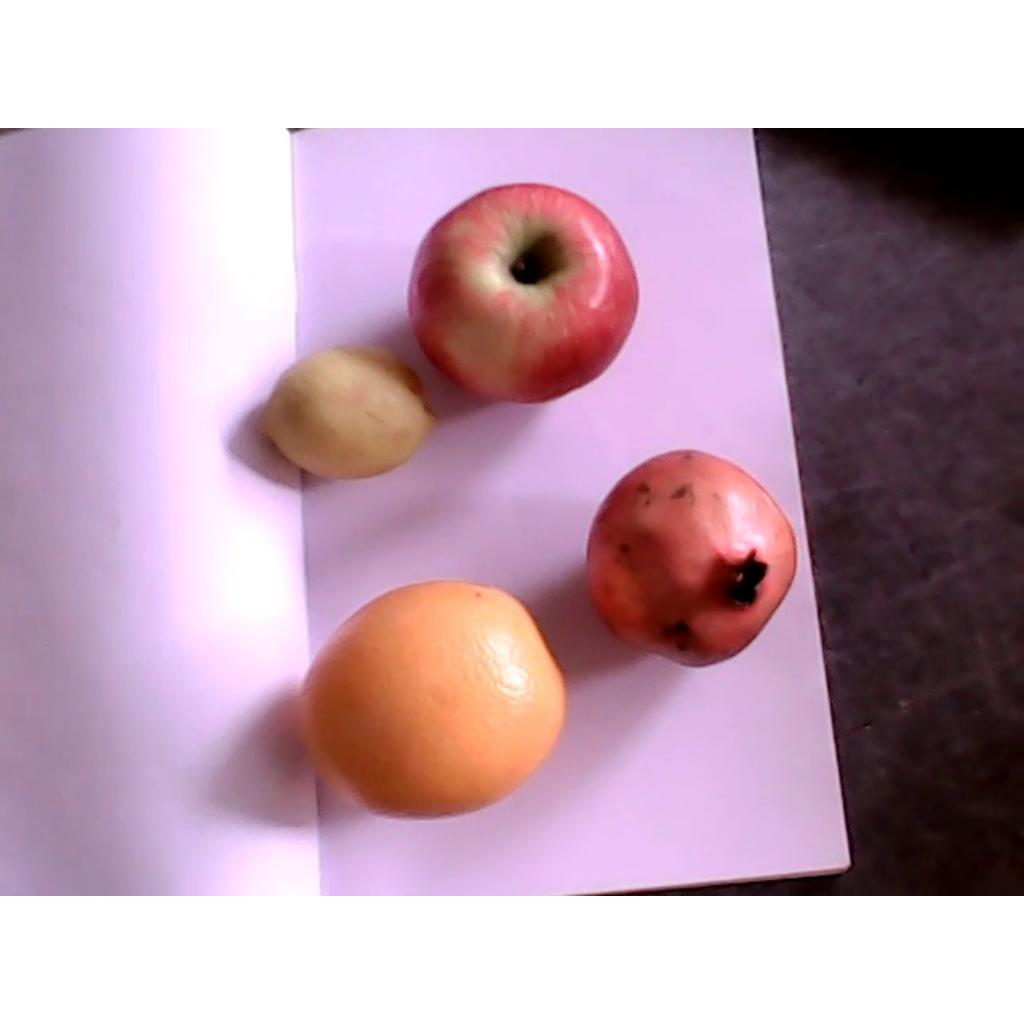apple: (402, 187, 642, 406)
lemon: (255, 345, 438, 481)
orange: (291, 581, 564, 823)
pomegranate: (585, 448, 797, 666)
